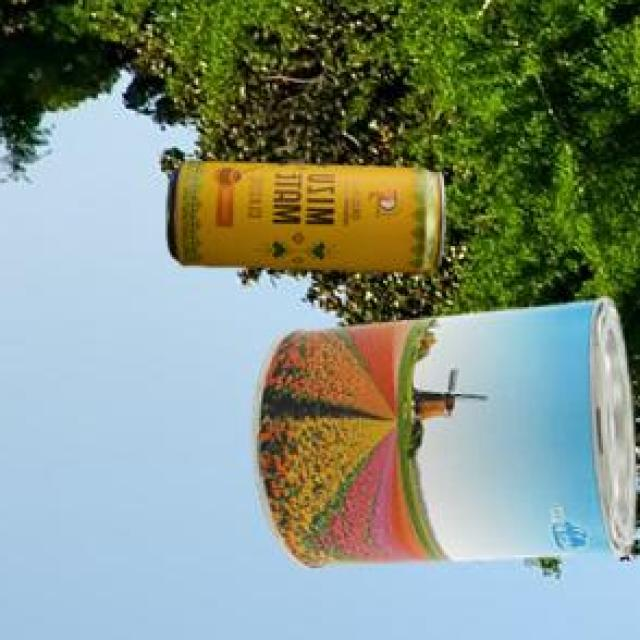logam: (249, 301, 632, 571), (164, 164, 441, 275)
